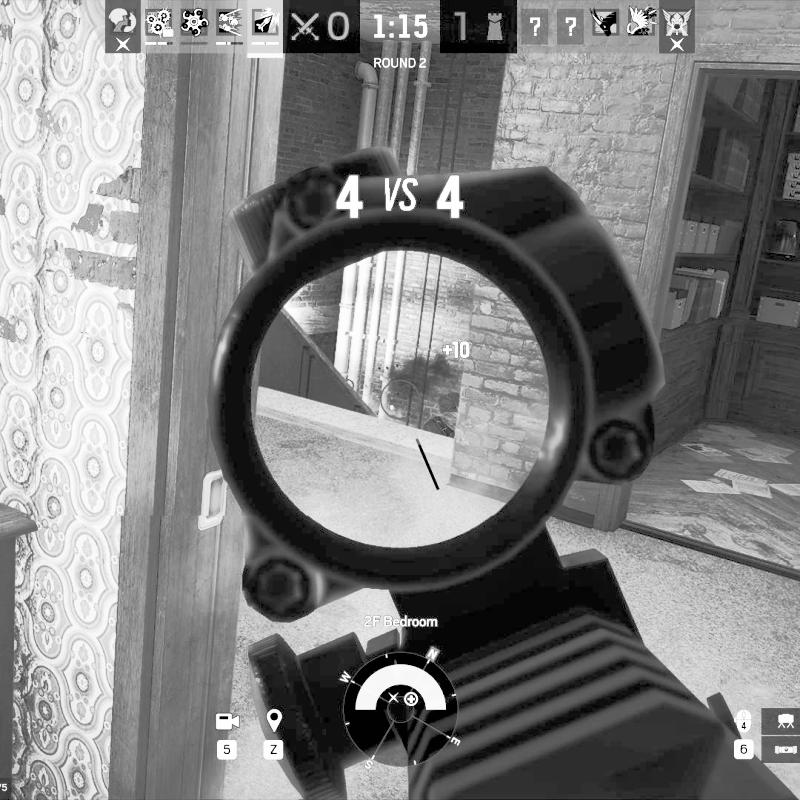Character: (422, 387, 463, 436)
Head: (436, 390, 460, 413)
